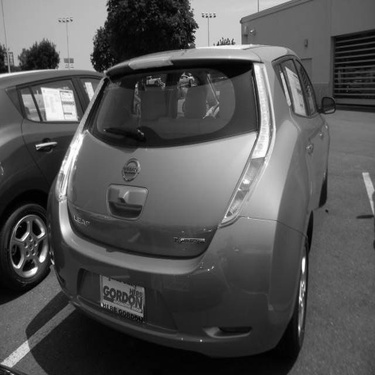car: (50, 37, 340, 362), (3, 64, 121, 294)
